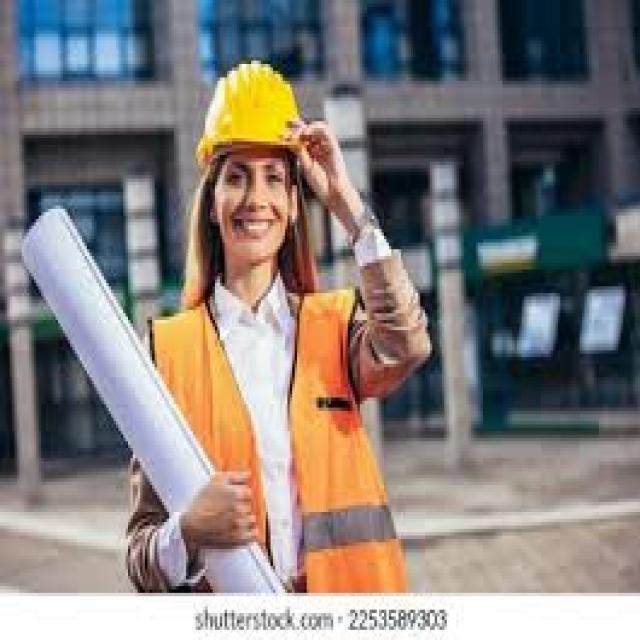safetyhelmet: (201, 59, 297, 226)
